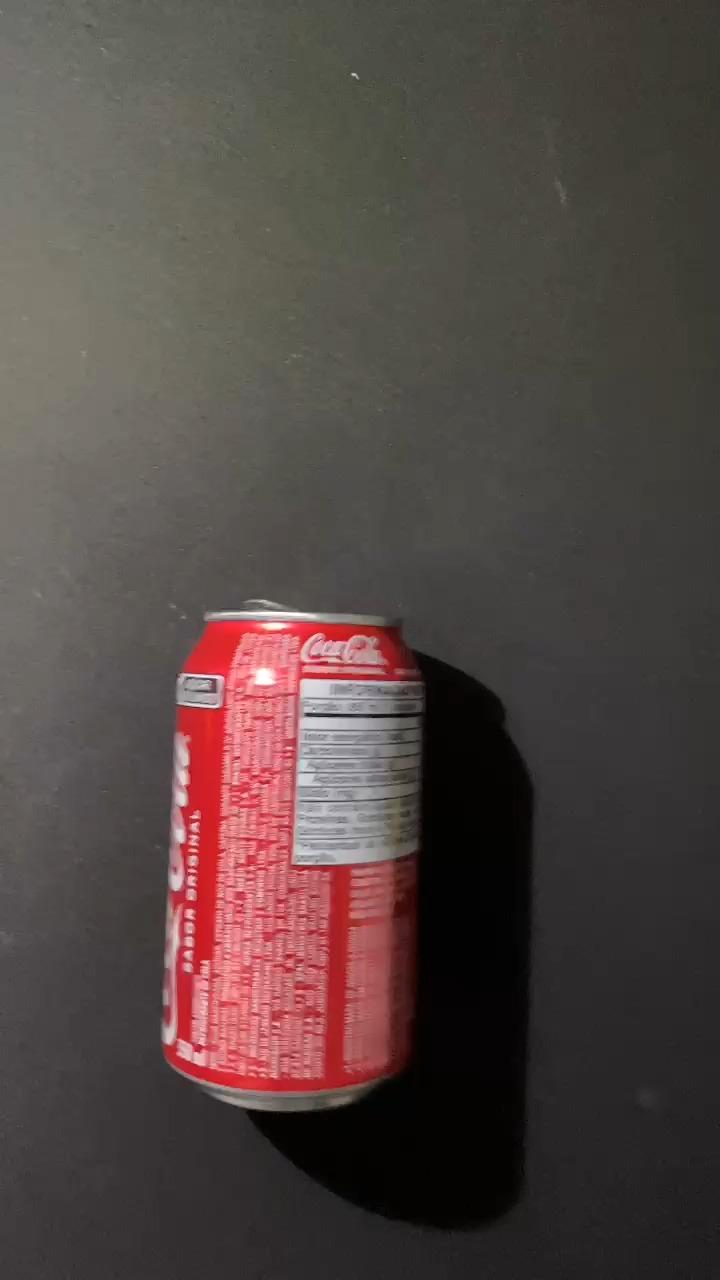coke: (163, 607, 425, 1115)
